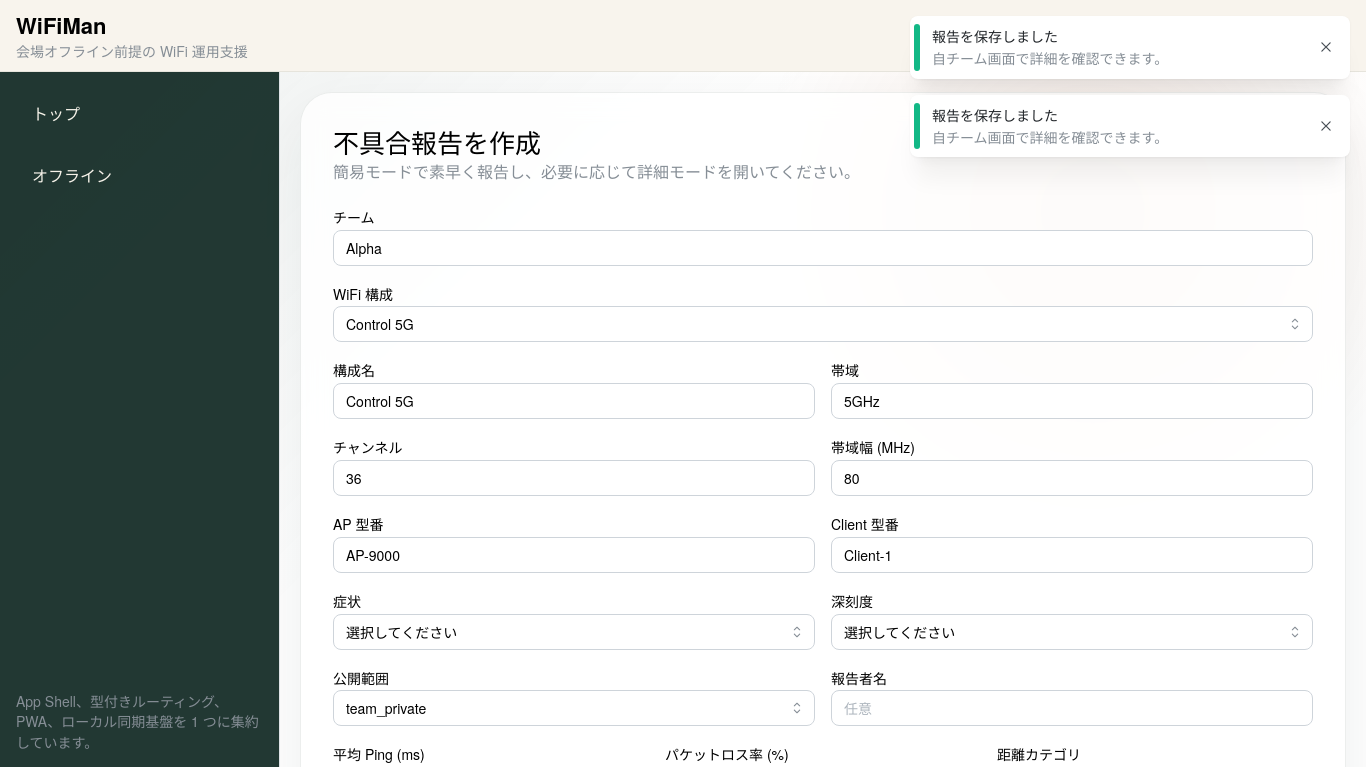
Test: team management routes › オフライン保存すると syncRecords に pending が残る
Expected: the heading "不具合報告を作成" is shown, [333,124,541,161]
Select "high_latency" in the dropdown labelled "症状" at point(574, 632), box [333,614,815,650]
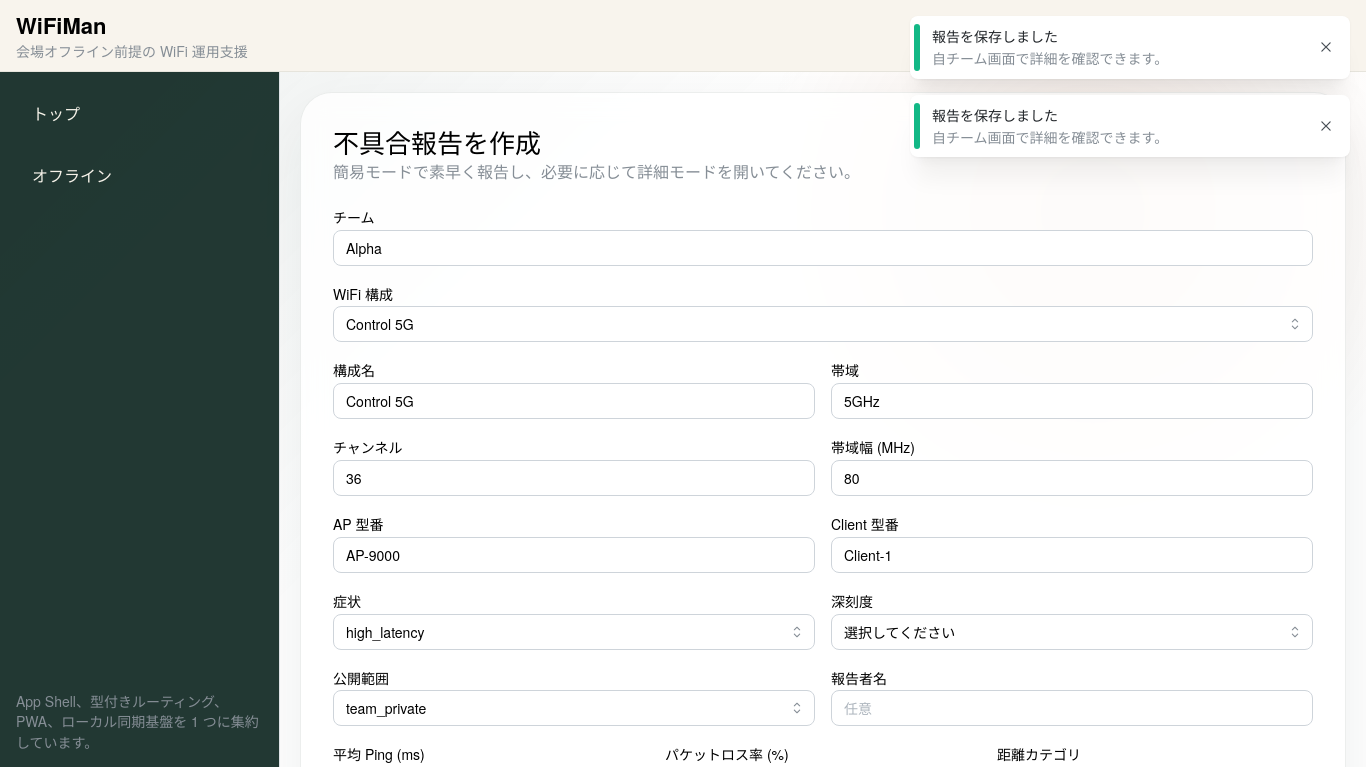
Select "high" in the dropdown labelled "深刻度" at point(1072, 632), box [831,614,1313,650]
(page scrolled)
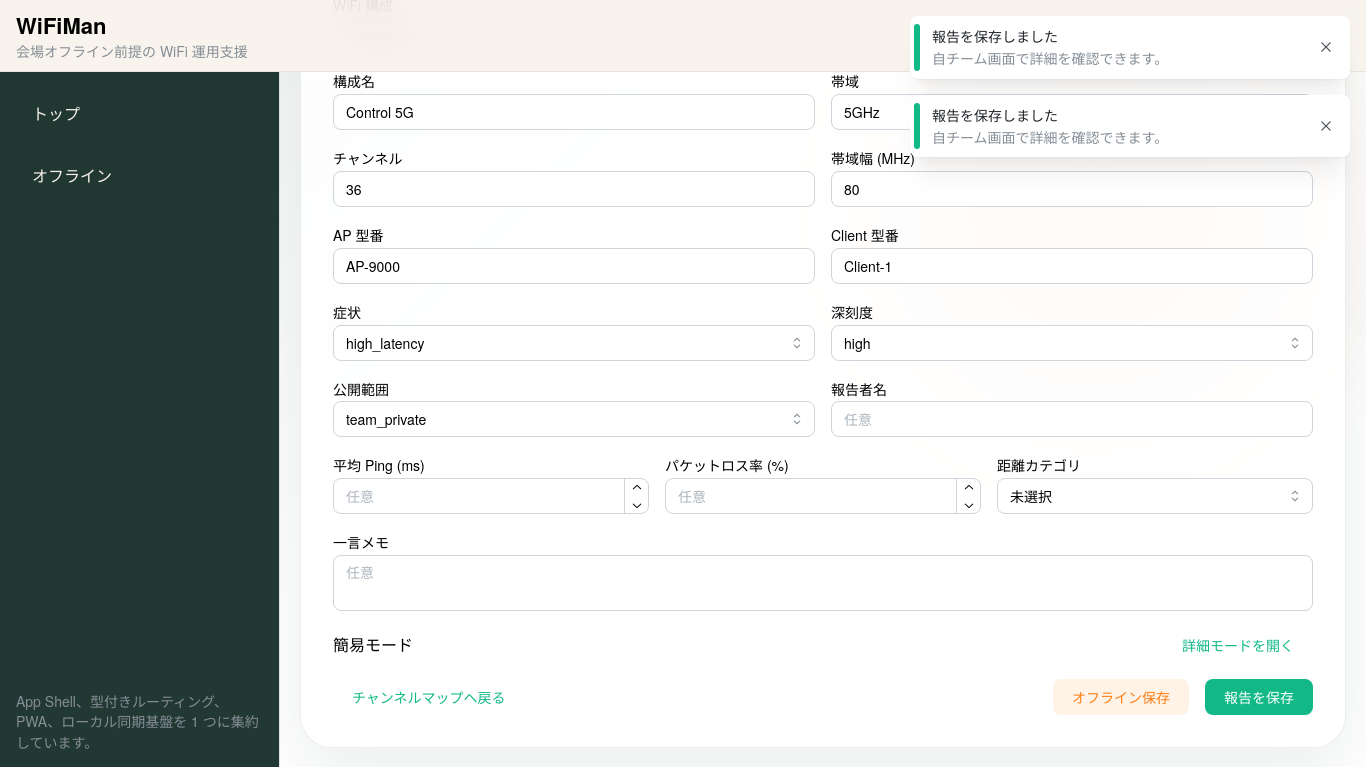
Click the button "オフライン保存" at point(1121, 697), box [1053,679,1189,715]
(page scrolled)
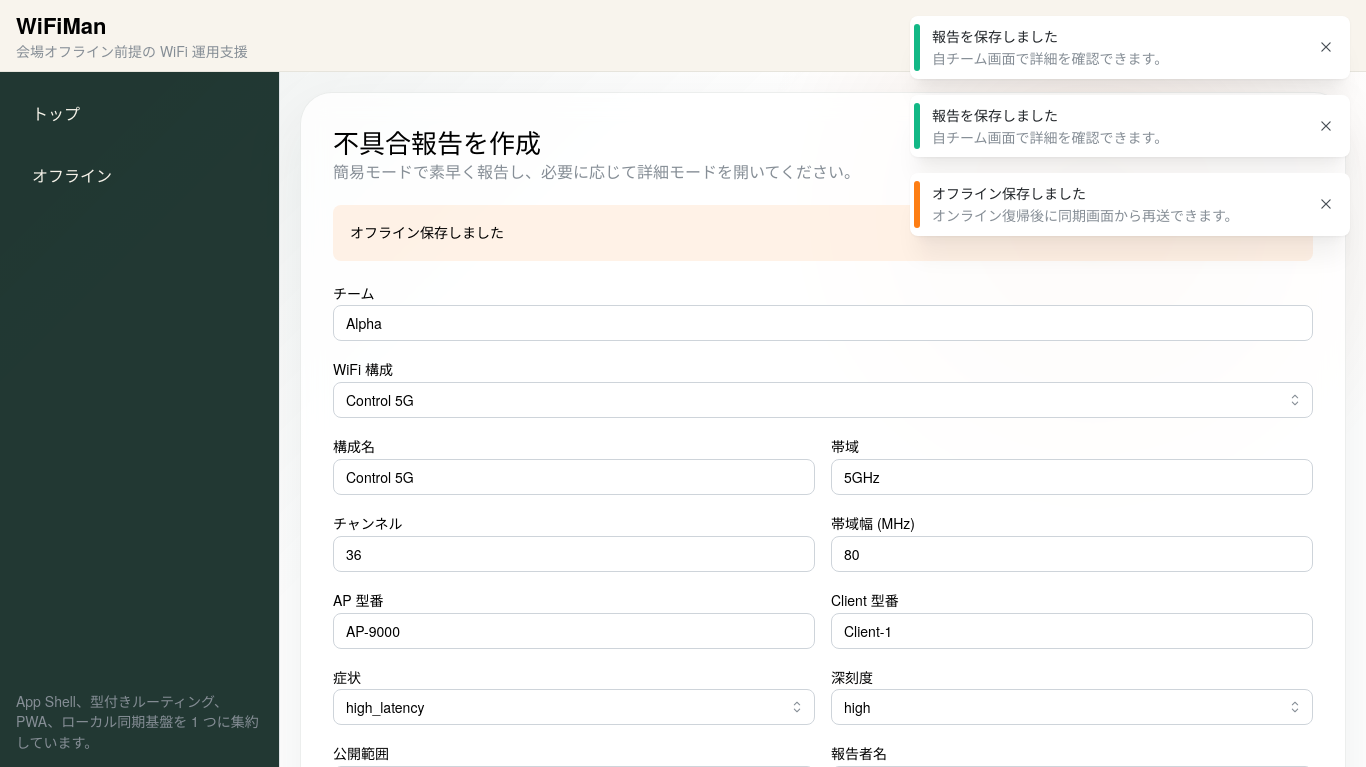
Expected: the text "オフライン保存しました" below "簡易モードで素早く報告し、必要に応じて詳細モードを開いてください。" is shown, [350,222,504,242]
